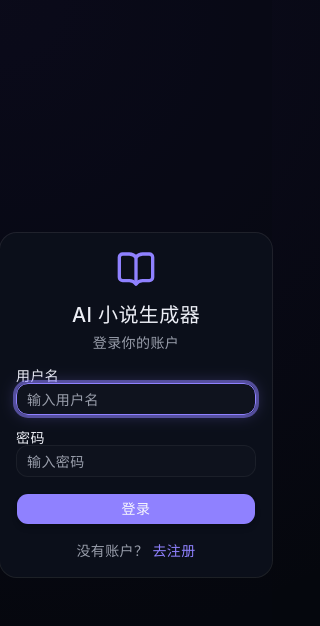
Test case: LoginPage › switches to register mode
Click the button "去注册".
click(174, 551)  # box [152, 541, 196, 561]
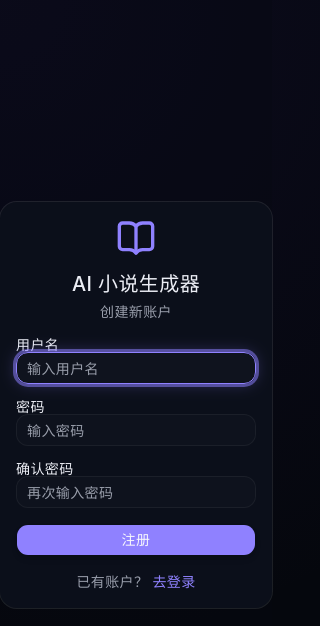
Expected: the text "创建新账户" is shown, [100, 303, 172, 320]
Expected: the password field named "确认密码" is shown, [16, 476, 256, 508]
